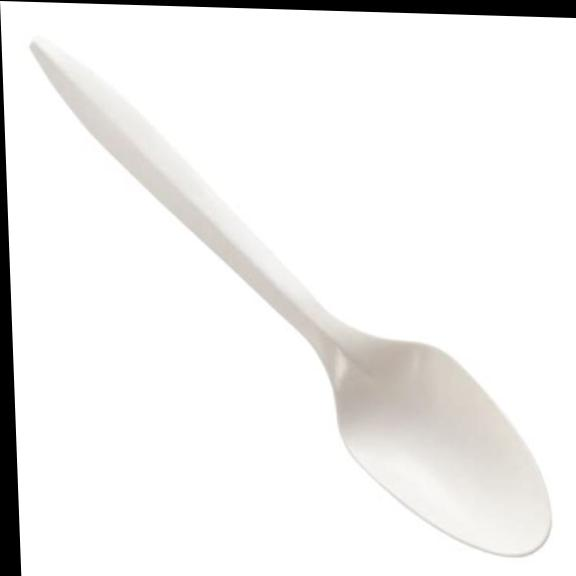Plastik: (32, 40, 551, 555)
